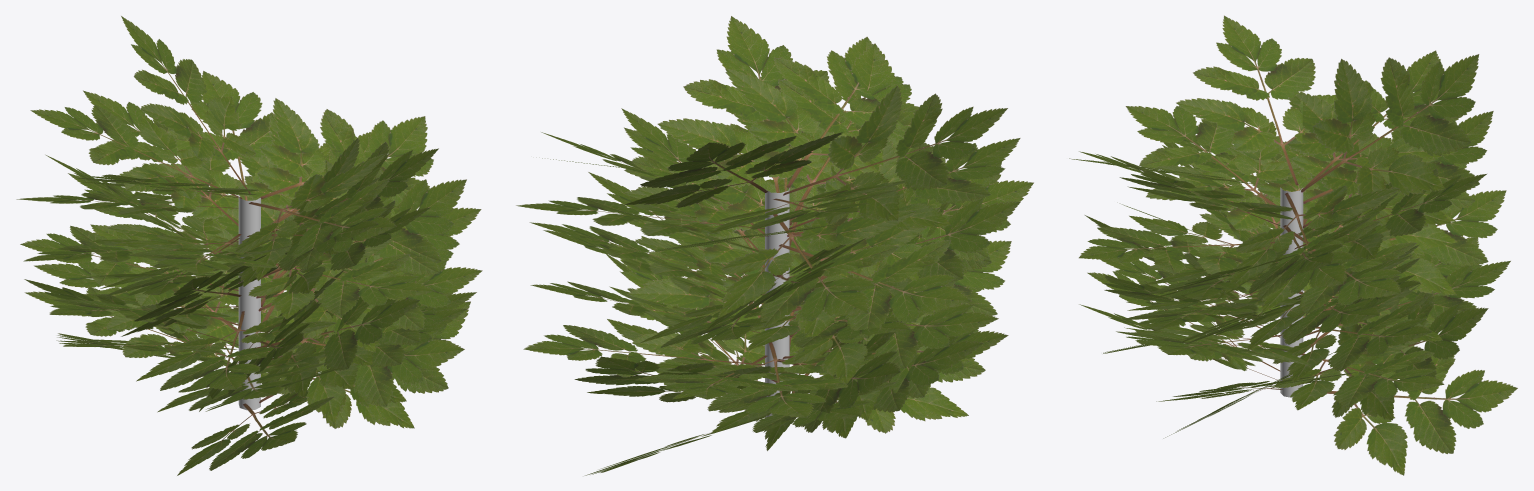
Rendered from Leaves-High.glb.
3 views of the same model, side by side, from view 1: azimuth 30°, elevation 25°; view 2: azimuth 150°, elevation 25°; view 3: azimuth 270°, elevation 25° (orthographic). The views are drawn at different scales.
Parts seen in each view (by area): view 1: Cylinder.001; view 2: Cylinder.001; view 3: Cylinder.001.
Boxes of the visible parts, box(x1,y1,x2,y2) form: Cylinder.001: box(16, 16, 482, 475); Cylinder.001: box(516, 16, 1033, 475); Cylinder.001: box(1069, 15, 1517, 475).
Size of the model in its own units: 4.05 by 3.45 by 4.01.
1 material, 1 textured.
